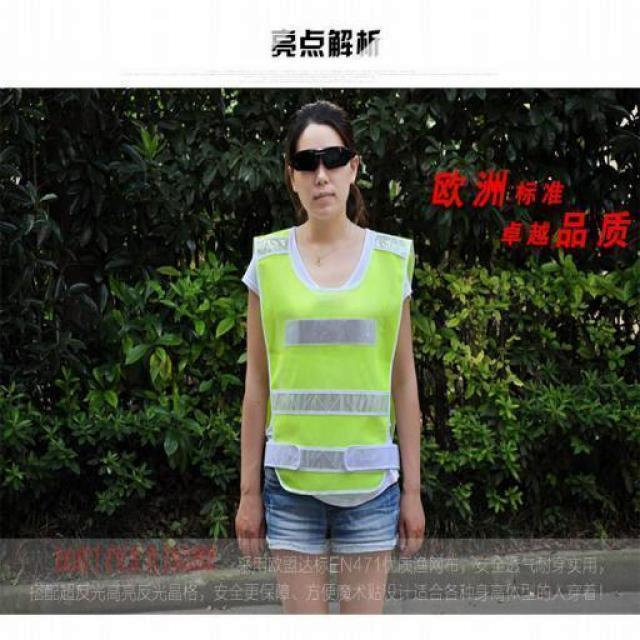no_head_wear: (282, 100, 356, 167)
person: (235, 101, 424, 612)
